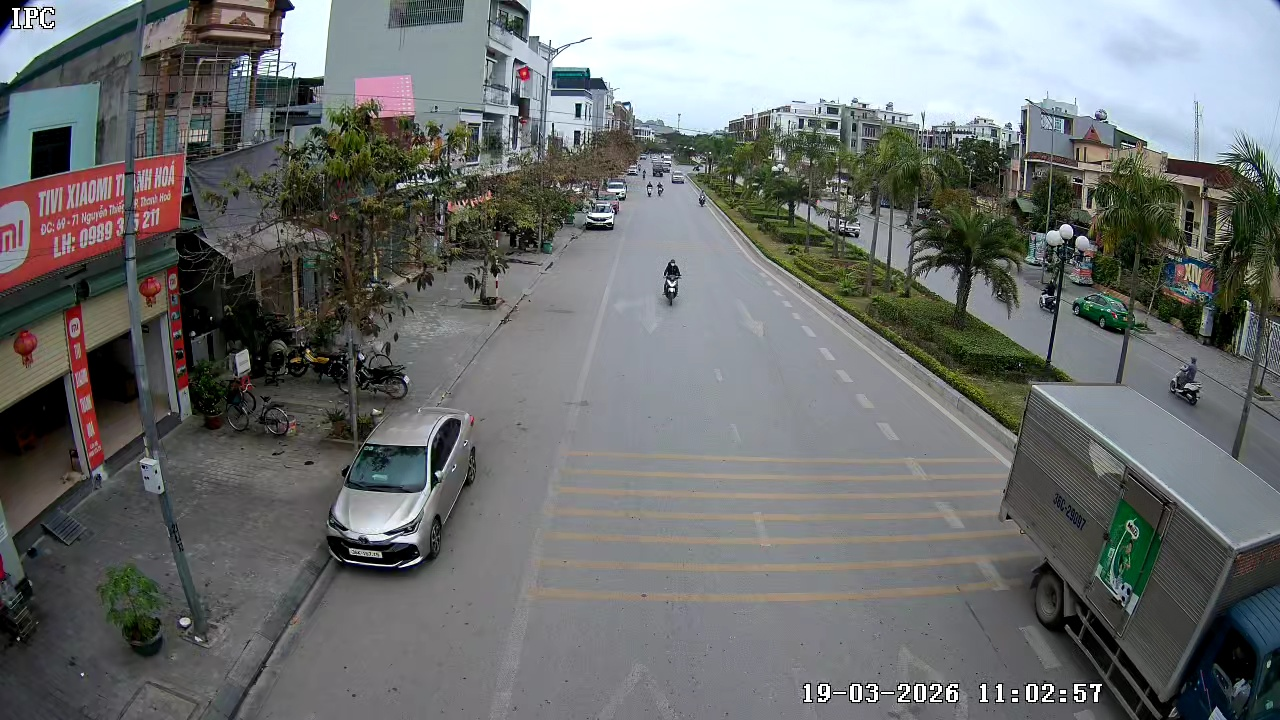car: (325, 406, 479, 572), (582, 199, 617, 231)
motorbike: (354, 338, 411, 399), (1167, 356, 1203, 410), (660, 256, 683, 307), (648, 174, 663, 199)
